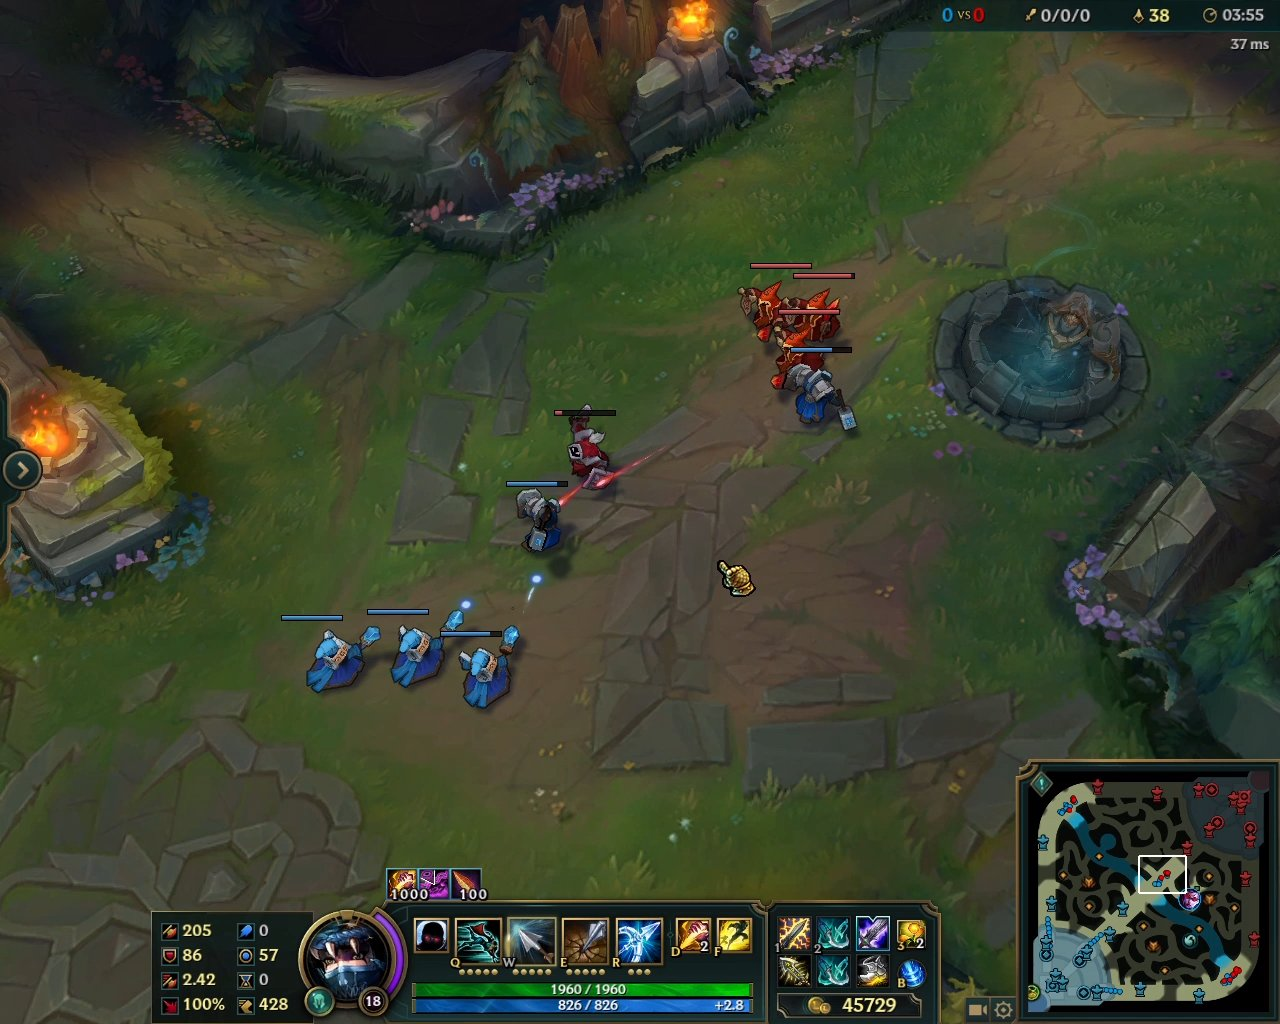EnemyMinion: (734, 262, 812, 349), (555, 400, 620, 502), (767, 309, 842, 392), (779, 270, 856, 346)
